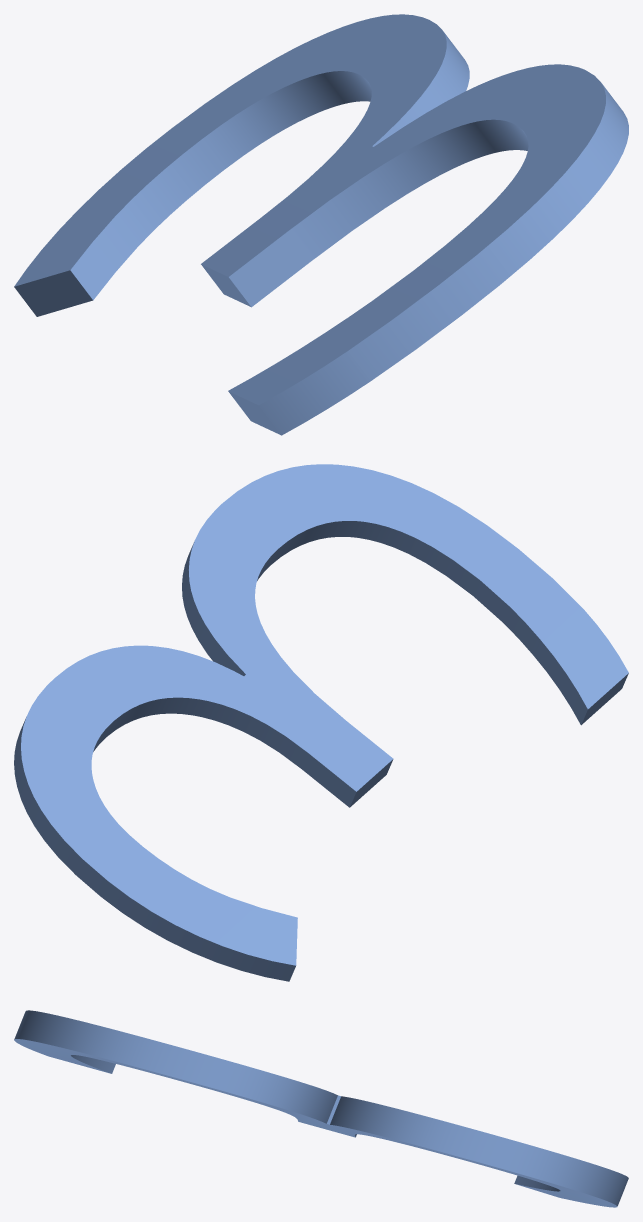
Rendered from New_Number_3.gltf.
3 renders of one model, top to bottom at view 1: azimuth 30°, elevation 25°; view 2: azimuth 150°, elevation 25°; view 3: azimuth 270°, elevation 25°, orthographic. The views are drawn at different scales.
Parts seen in each view (by area): view 1: Part 642; view 2: Part 642; view 3: Part 642.
Boxes of the visible parts, box(x1,y1,x2,y2) form: Part 642: box(14, 14, 628, 435); Part 642: box(14, 464, 628, 981); Part 642: box(14, 1010, 628, 1207).
Size of the model in its own units: 0.00342 by 0.00254 by 0.00511.
